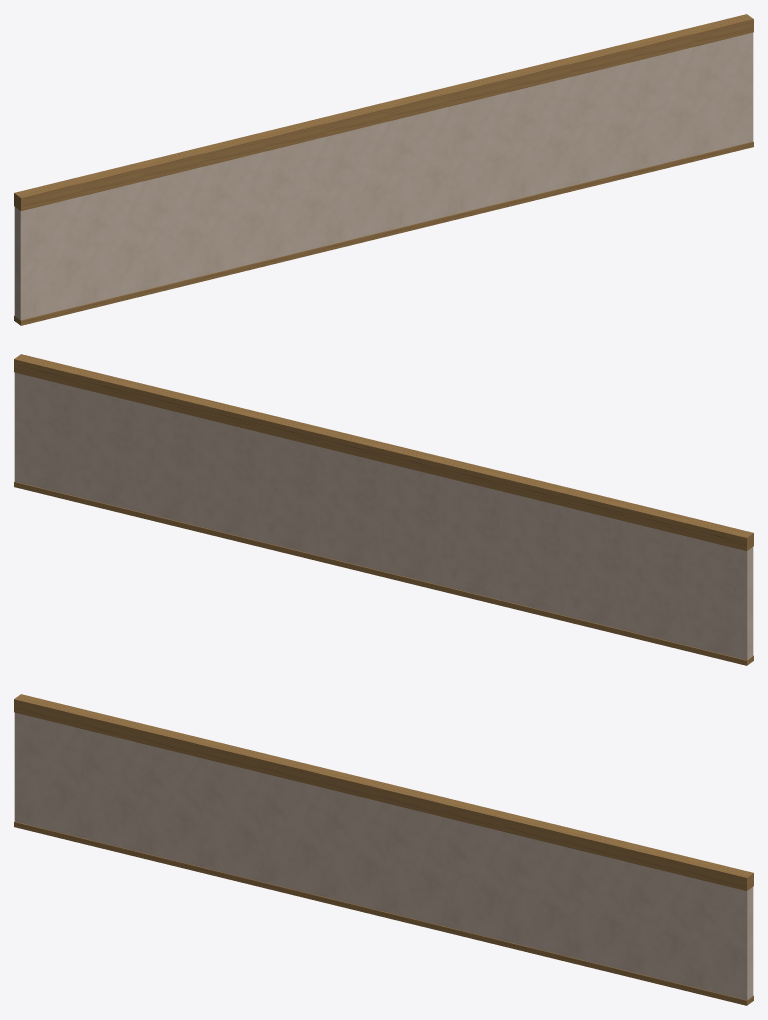
File: wall_12.fbx
3 views of the same model, one above another, from view 1: azimuth 30°, elevation 25°; view 2: azimuth 150°, elevation 25°; view 3: azimuth 330°, elevation 25° (orthographic).
Parts seen in each view (by area): view 1: Cube.242; view 2: Cube.242; view 3: Cube.242.
Boxes of the visible parts, left/top/right/bottom form: Cube.242: left=14, top=14, right=753, bottom=325; Cube.242: left=14, top=354, right=753, bottom=665; Cube.242: left=14, top=694, right=753, bottom=1005.
Bounding box in the file's own units: 1200 × 200 × 20.
